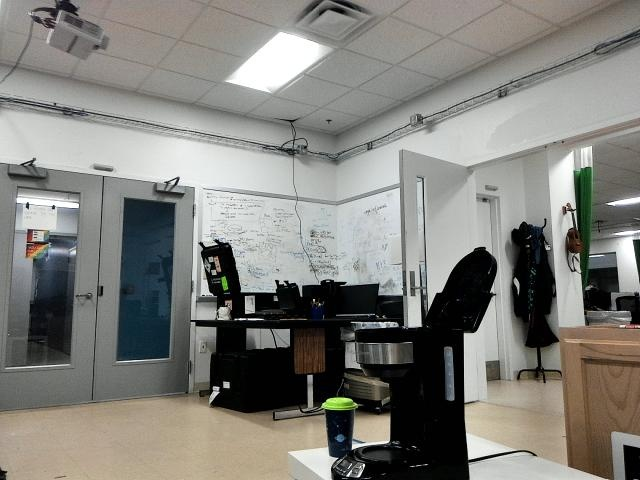useless_cup: (321, 394, 358, 452)
